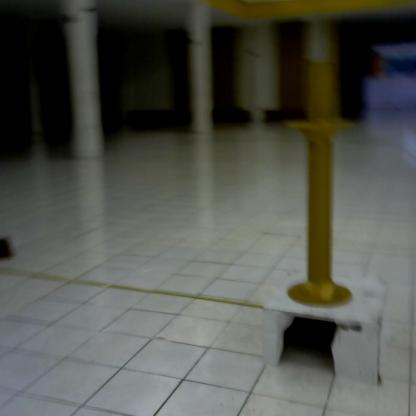pole: (285, 58, 359, 321)
